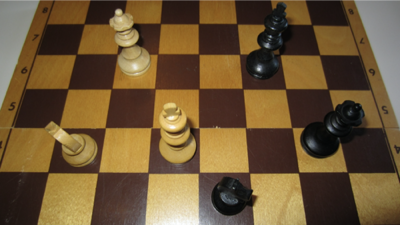black-king: (246, 2, 289, 80)
black-knight: (211, 177, 254, 217)
black-queen: (300, 99, 367, 159)
white-king: (158, 103, 197, 166)
white-knight: (44, 121, 99, 168)
white-queen: (109, 8, 153, 78)
